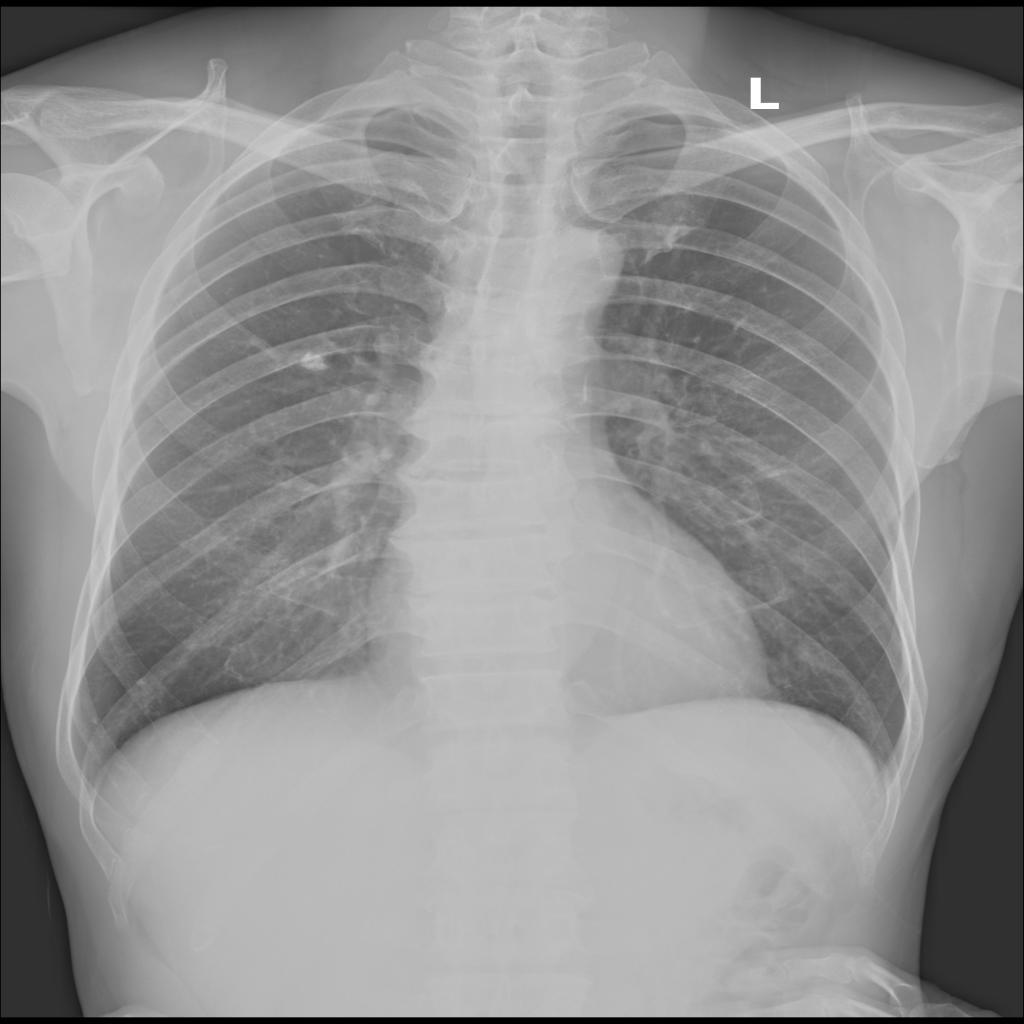Nodule: (302, 351, 331, 371)
